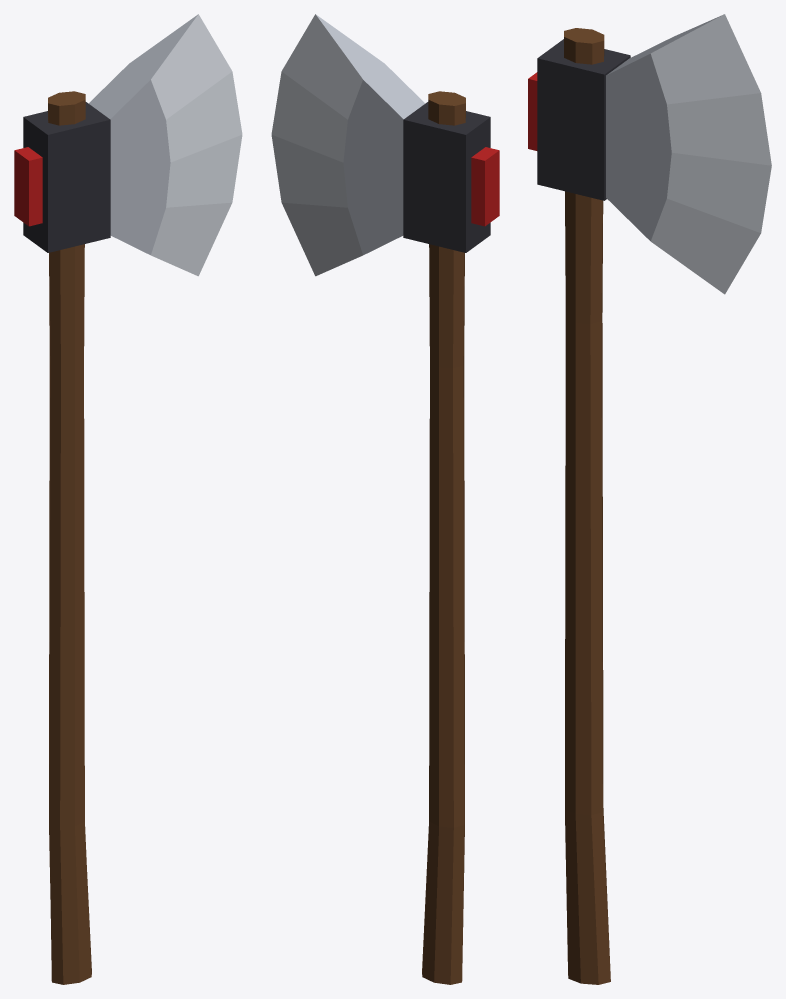
The model's file is axe.obj.
The picture shows the model from 3 angles, left to right: view 1: azimuth 30°, elevation 25°; view 2: azimuth 150°, elevation 25°; view 3: azimuth 330°, elevation 25°; orthographic projection. The views are drawn at different scales.
Parts seen in each view (by area): view 1: axe; view 2: axe; view 3: axe.
Boxes of the visible parts, x1,y1,x2,y2 form: axe: (14, 14, 242, 984); axe: (271, 14, 499, 984); axe: (528, 14, 771, 984).
Bounding box in the file's own units: 0.2376 × 0.9592 × 0.0459.
